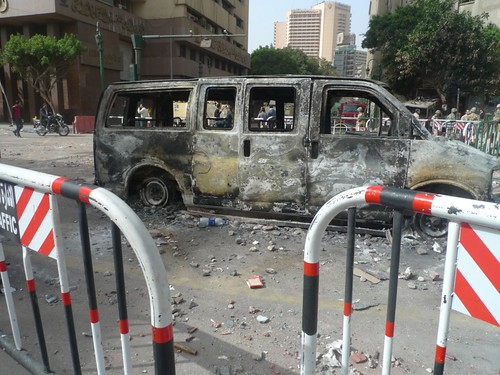building: (1, 1, 256, 124), (273, 1, 362, 78)
car: (98, 74, 500, 237)
tree: (367, 5, 499, 112)
